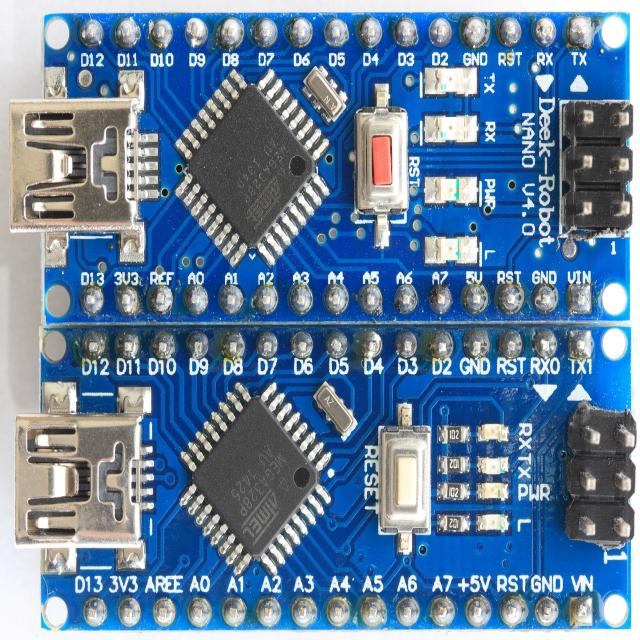2235: (355, 100, 411, 230), (378, 419, 434, 529)
IC: (184, 74, 319, 234), (190, 393, 308, 563)
LED: (420, 173, 479, 210), (425, 66, 480, 103), (425, 113, 481, 147), (428, 233, 480, 263), (477, 511, 510, 531), (476, 423, 506, 443), (476, 454, 506, 474), (476, 484, 506, 500)
clock Q1: (309, 377, 357, 438), (306, 66, 344, 128)
connector -5v-: (1, 86, 155, 250), (10, 408, 156, 568), (564, 406, 640, 543), (563, 102, 636, 235)
resistor IR1: (440, 512, 470, 533), (440, 480, 471, 500), (441, 455, 468, 475), (440, 425, 466, 444)
